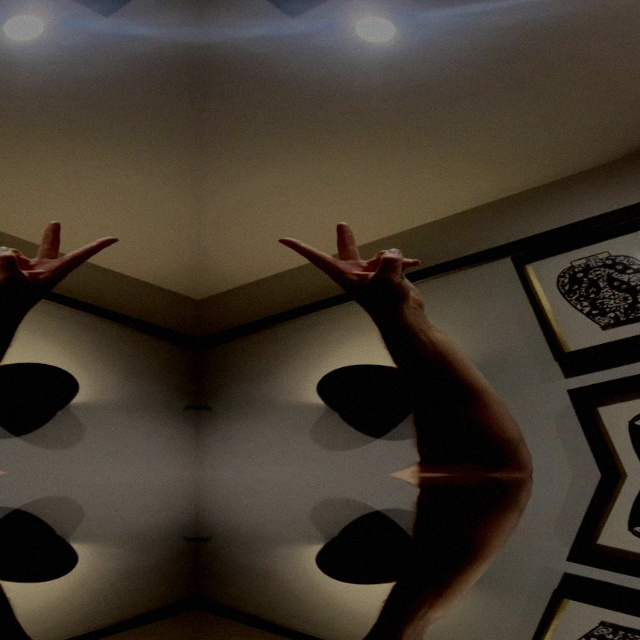Scissors: (0, 221, 119, 312)
